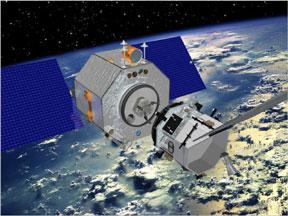antenna: (119, 39, 128, 62), (140, 41, 149, 61), (121, 46, 128, 70)
body: (74, 47, 171, 143), (151, 100, 229, 175)
solar: (0, 57, 85, 153), (188, 91, 288, 149), (130, 34, 208, 100)
thruster: (221, 154, 238, 177)
